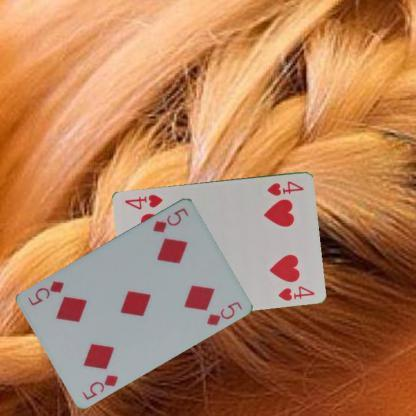4h: (264, 178, 306, 197)
5d: (150, 204, 190, 234), (80, 372, 121, 401)
